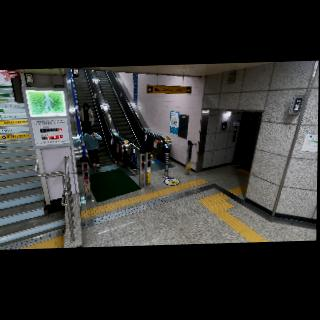normal: (80, 128, 104, 171), (74, 103, 96, 134)
